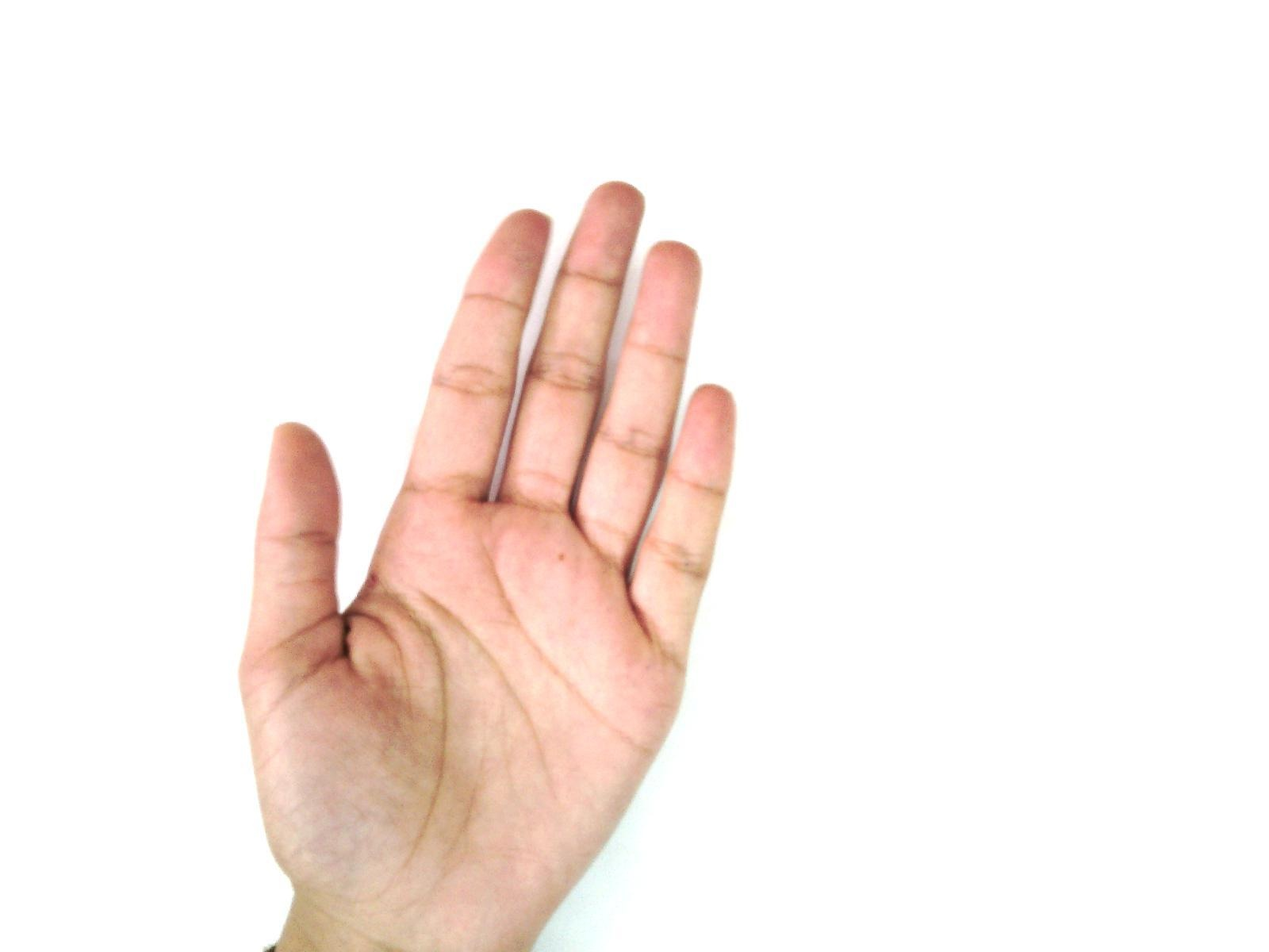open_palm: (236, 180, 740, 950)
